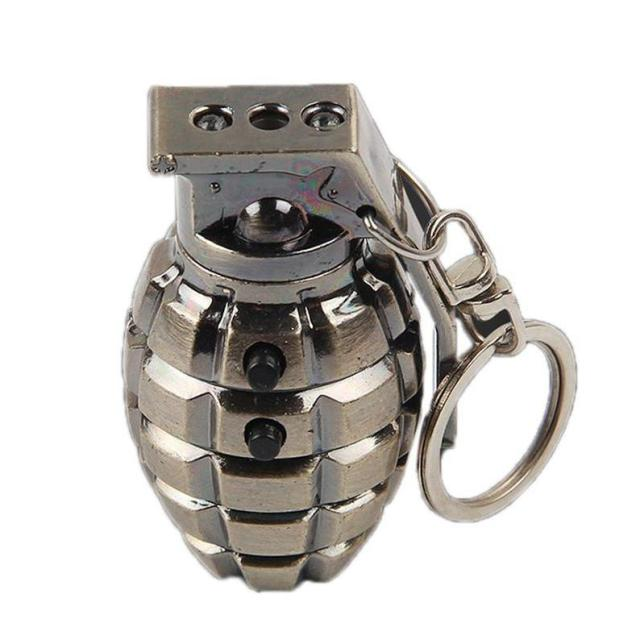grenade: (121, 86, 580, 594)
